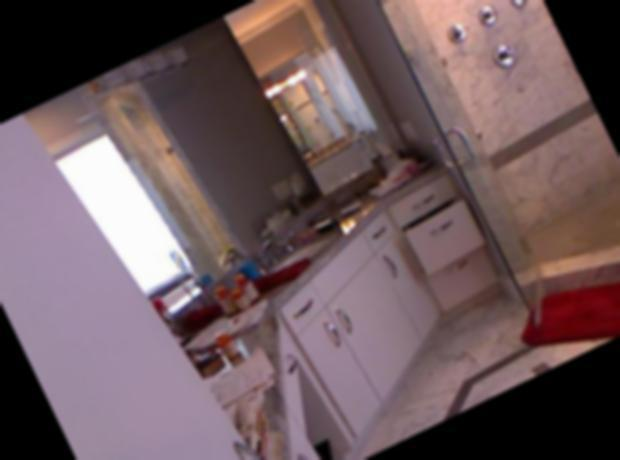Ducha: (353, 0, 620, 337)
Lavamanos: (243, 208, 351, 297)
